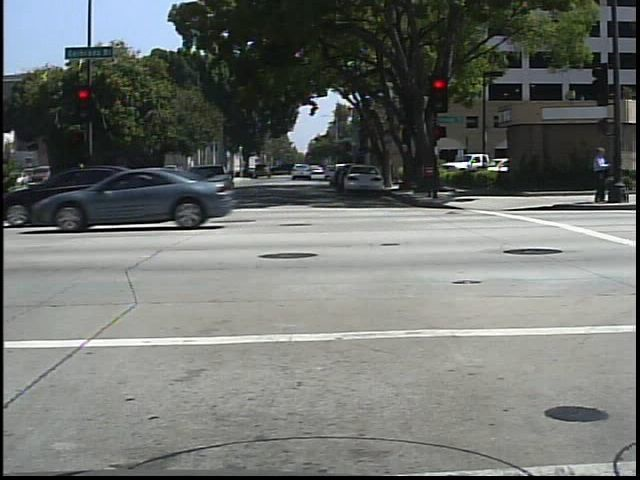person: (65, 157, 95, 222), (587, 144, 614, 209)
